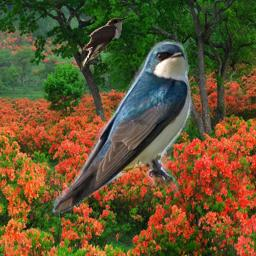Cuckoo: (81, 17, 127, 72)
Swallow: (47, 36, 197, 217)
